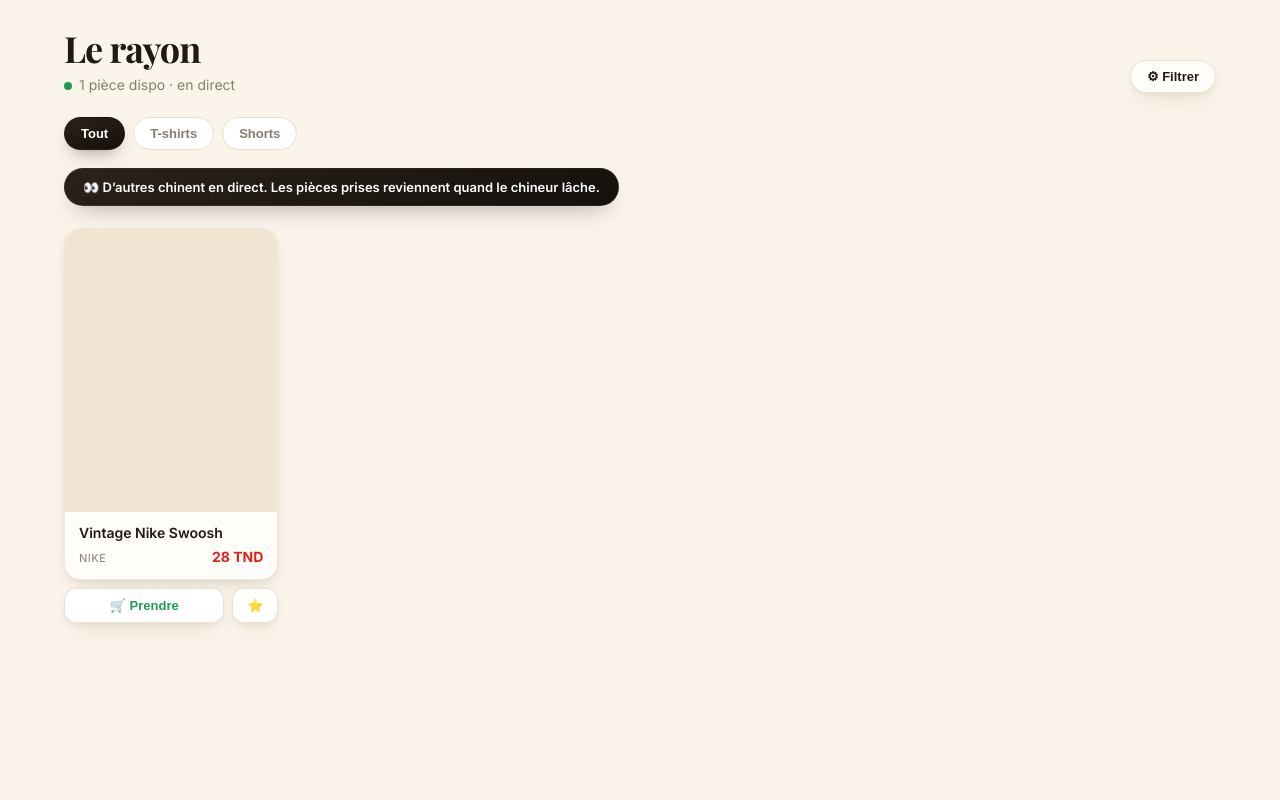
Test case: Catalogue (live floor) › keeps a grabbed piece on the floor as a held card (blurred, no grab button)
This screenshot has width=1280, height=800.
Check: the text "Vintage Nike Swoosh" is shown, box [79,524,223,541]
Click the button "🛒 Prendre": [144, 605] box [64,588,224,623]
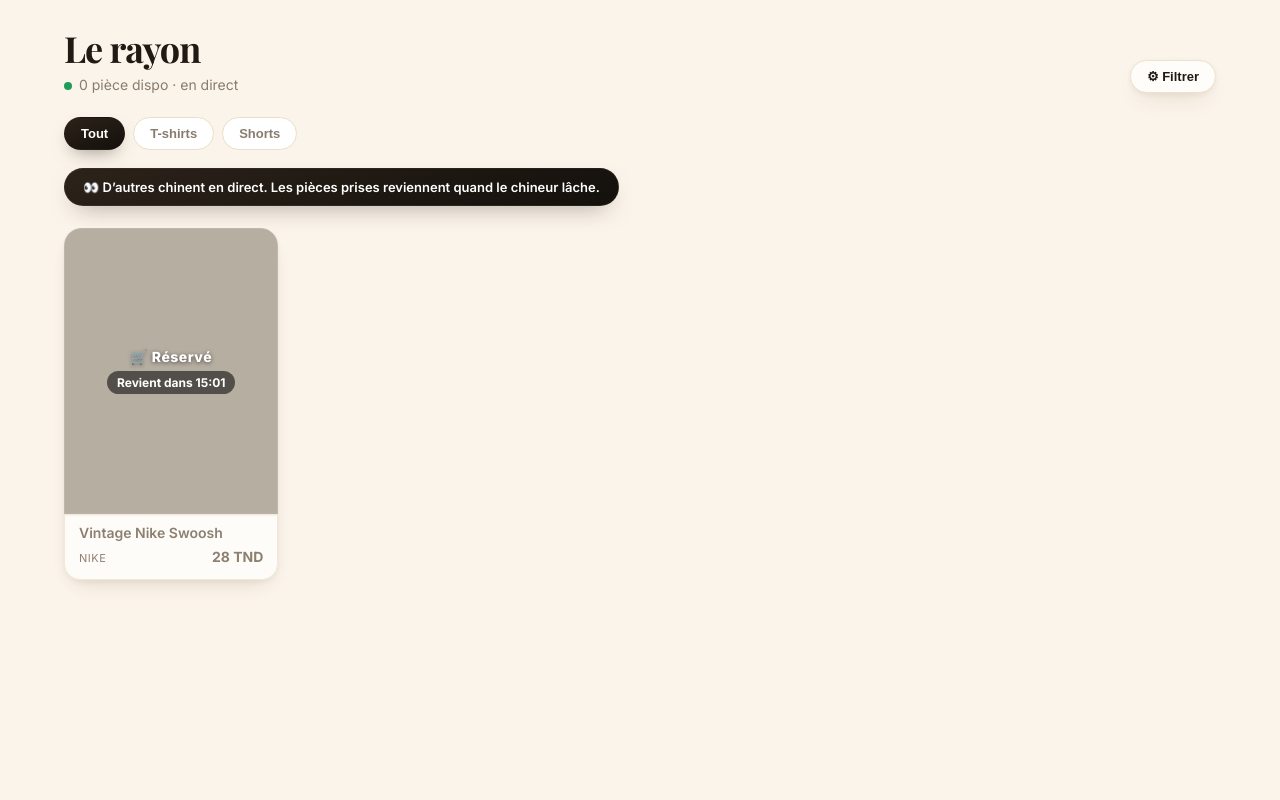
Check: the text "Vintage Nike Swoosh" is shown, box [79,524,223,541]
Check: the text "🛒 Réservé" is shown, box [130,348,212,365]
Check: the button "Prendre" is gone
